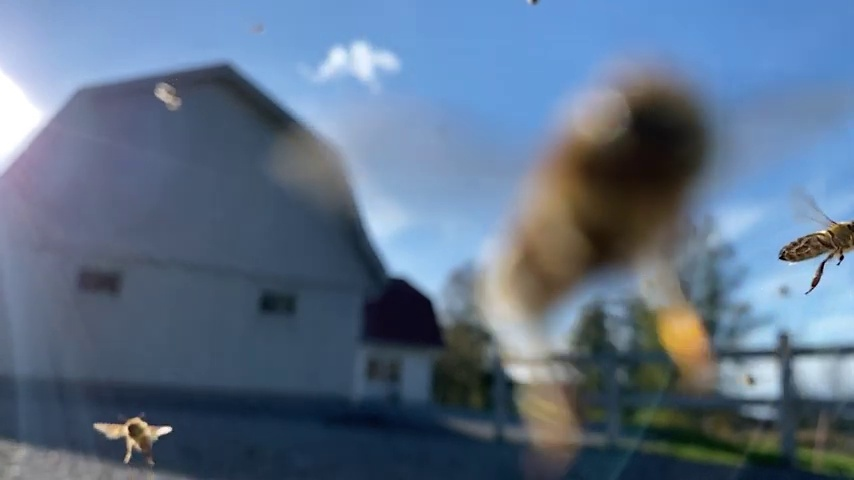insect: (466, 57, 752, 465), (772, 189, 854, 291), (93, 411, 171, 468)
